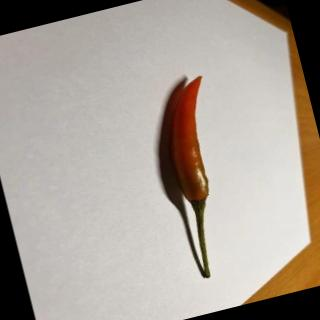Cabai Merah: (154, 75, 251, 280)
